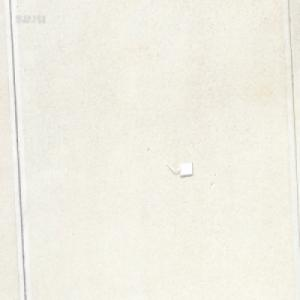LuggageTag: (165, 160, 193, 177)
